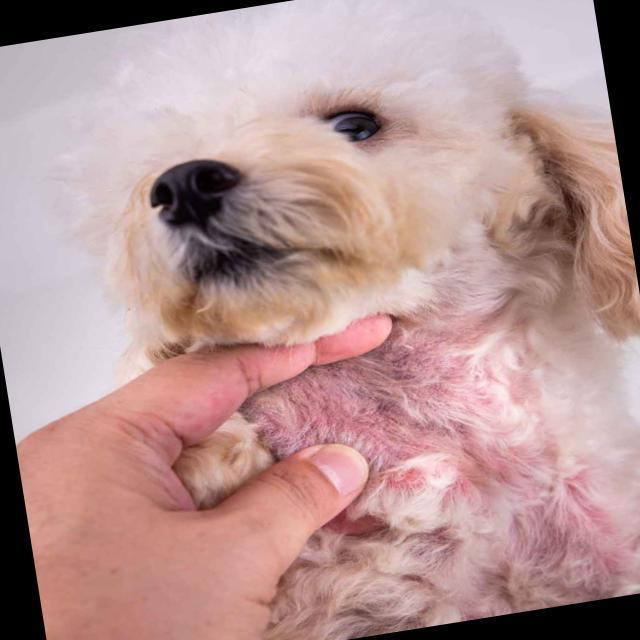fungal infection: (273, 383, 536, 444), (513, 477, 640, 583), (440, 436, 569, 509), (399, 327, 516, 382)
